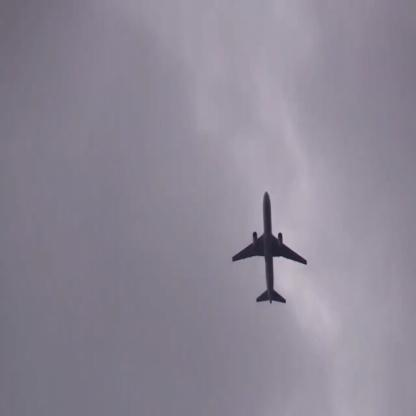CIV_Plane: (231, 190, 308, 302)
